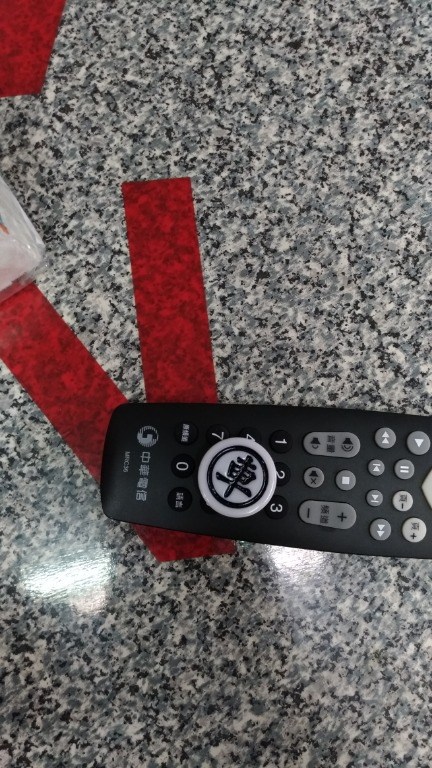b-king: (187, 429, 298, 535)
